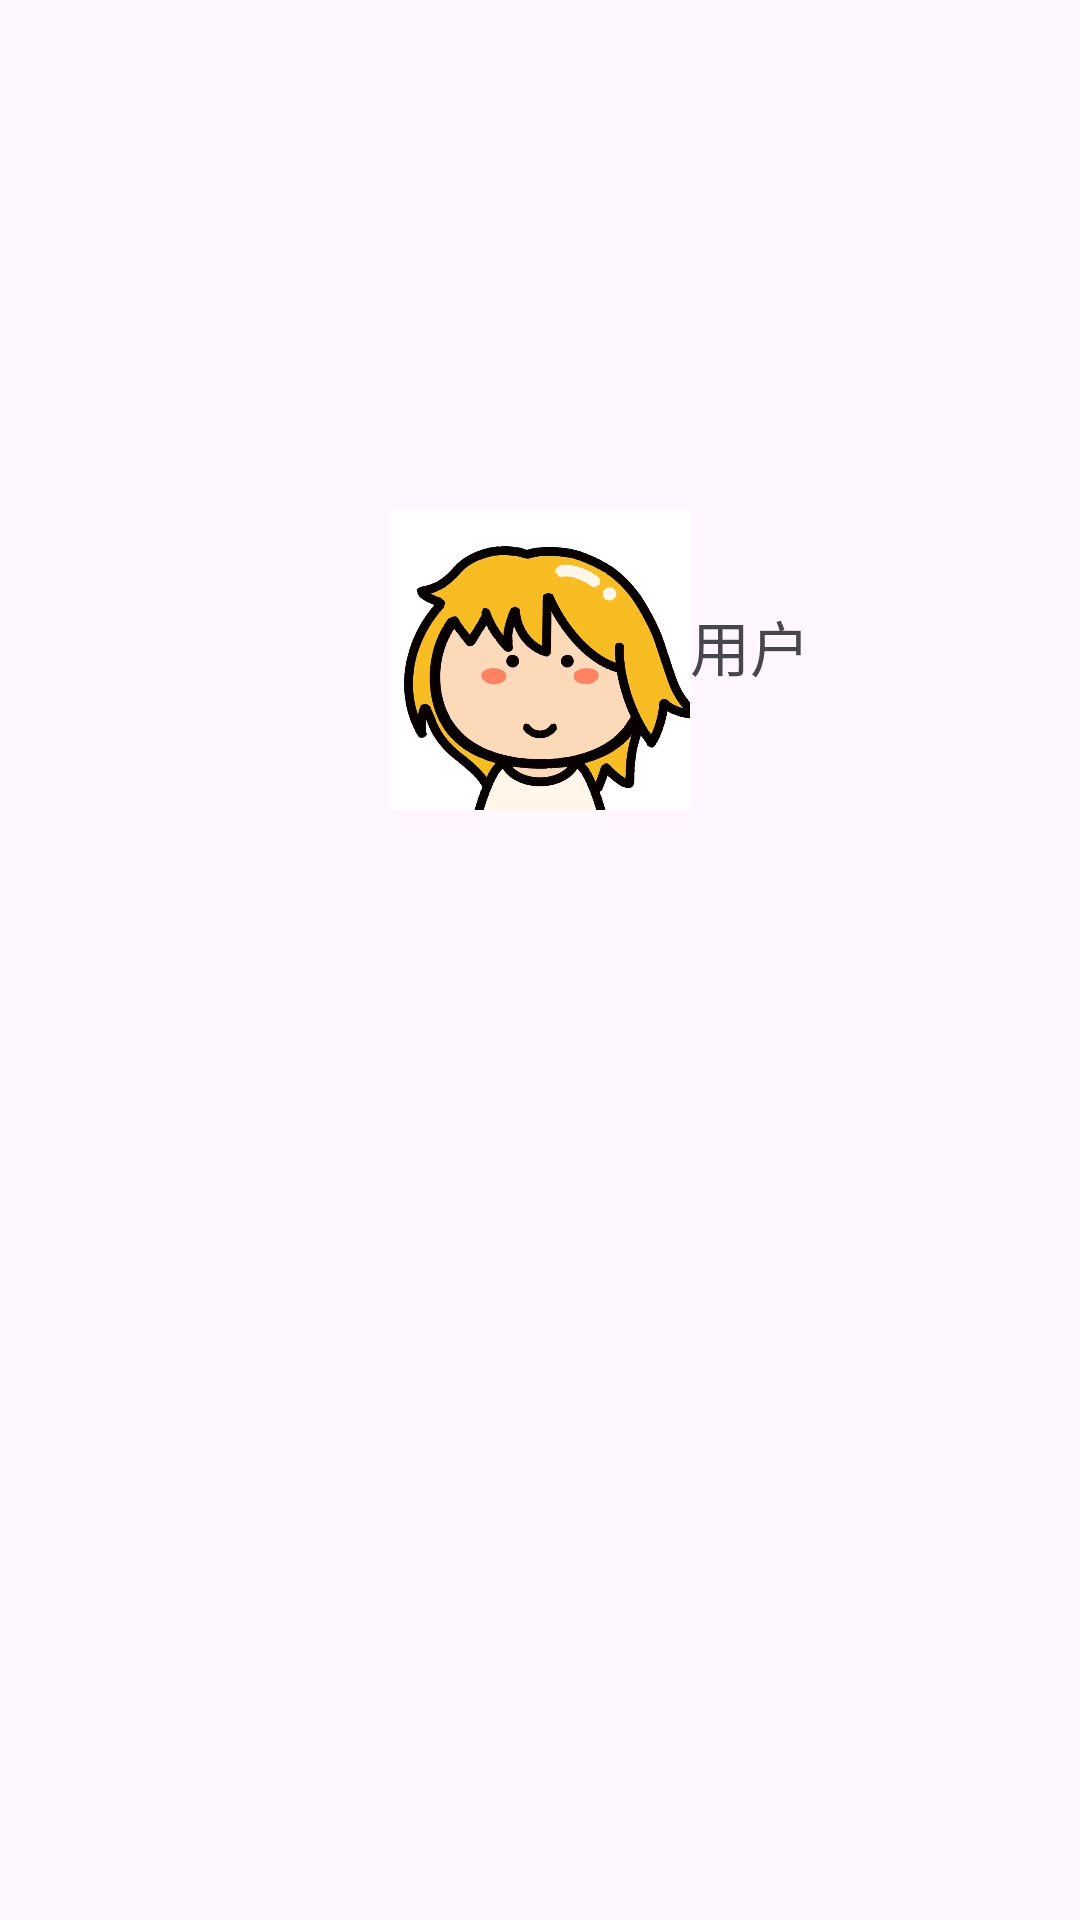

Icon click points for this 1080w x 1920h phone screenshot, format point (x, y):
profile: point (547, 678)
